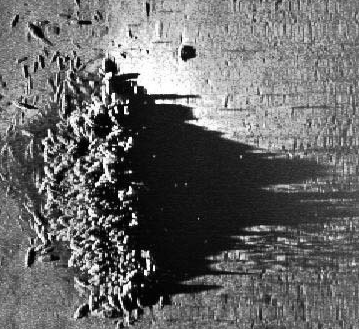ship: (22, 56, 149, 321)
